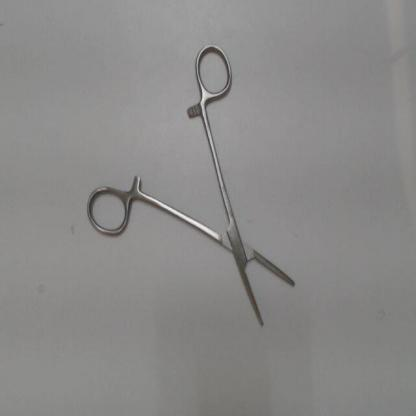Mayo Needle Holder: (82, 37, 310, 343)
